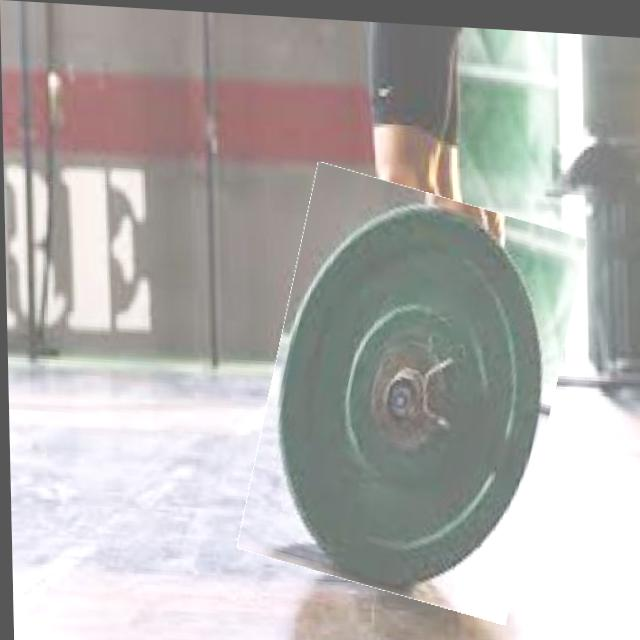barbell: (250, 169, 573, 611)
